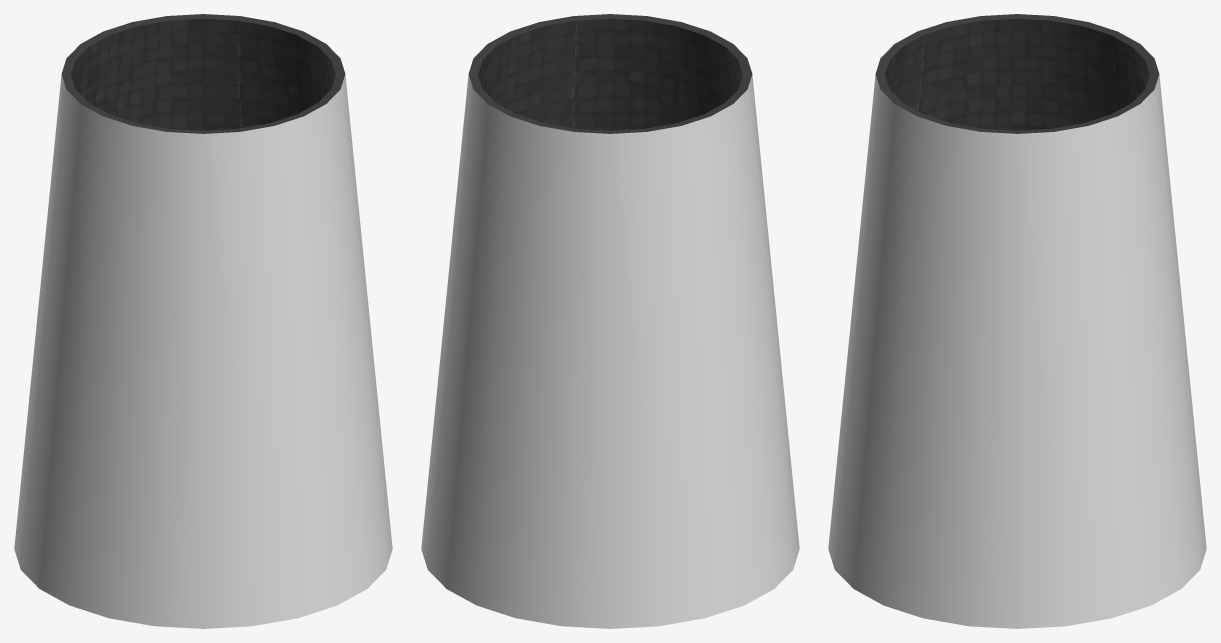
File: Thor_Able_Interstage.obj
3 views of the same model, side by side, from view 1: azimuth 30°, elevation 25°; view 2: azimuth 150°, elevation 25°; view 3: azimuth 270°, elevation 25° (orthographic).
Parts seen in each view (by area): view 1: Cylinder1; view 2: Cylinder1; view 3: Cylinder1.
Part boxes in pixels (x1=…): Cylinder1: x1=14, y1=14, x2=392, y2=628; Cylinder1: x1=421, y1=14, x2=799, y2=628; Cylinder1: x1=828, y1=14, x2=1206, y2=628.
Bounding box in the file's own units: 2 × 2.77 × 2.
